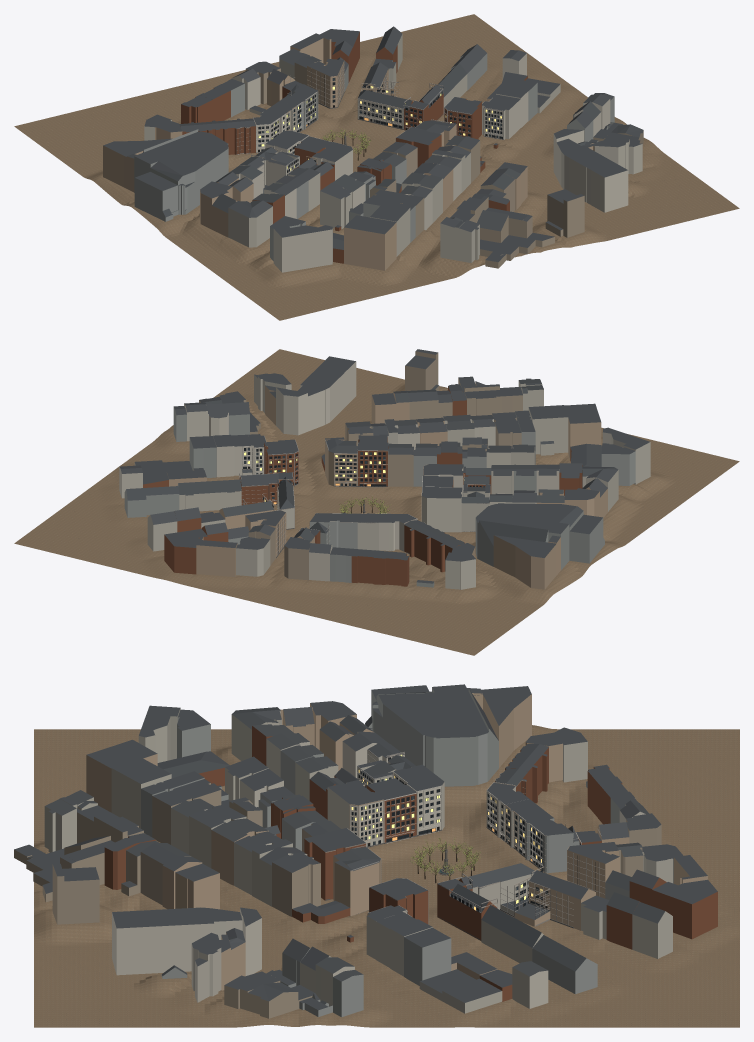
The model's file is night-intersection-c0.glb.
3 views of the same model, one above another, from view 1: azimuth 30°, elevation 25°; view 2: azimuth 150°, elevation 25°; view 3: azimuth 270°, elevation 25° (orthographic). The views are drawn at different scales.
Visible parts, largest first — view 1: astra_continuous_paving, lod2_DEHHALKAJ0000zPI_wall, lod2_DEHHALKAJ0000zPI_roof, lod2_DEHHALKA13y000X0_wall, lod2_DEHHALKAJ0000zR5_wall, lod2_DEHHALKAJ0000zRv_roof, lod2_DEHHALKAJ0000znz_wall, lod2_DEHHALKAJ0000zRv_wall, lod2_DEHHALKAJ0000zyo_wall, lod2_DEHHALKAJ0000zLP_wall, lod2_DEHHALKAJ0000zWs_wall, lod2_DEHHALKA13y000X0_roof (+21 smaller); view 2: astra_continuous_paving, lod2_DEHHALKAJ0000zPI_roof, lod2_DEHHALKA13y000X0_wall, lod2_DEHHALKAJ0000zQ7_wall, lod2_DEHHALKAJ0000zPI_wall, lod2_DEHHALKAJ0000zP6_wall, lod2_DEHHALKAJ0000zsU_wall, lod2_DEHHALKA13y000X0_roof, lod2_DEHHALKA3pt00000_wall, lod2_DEHHALKAJ0000zRv_wall, lod2_DEHHALKAJ0000zKs_wall, lod2_DEHHALKAJ0000zMH_wall (+42 smaller); view 3: astra_continuous_paving, lod2_DEHHALKAJ0000zPI_wall, lod2_DEHHALKA13y000X0_wall, lod2_DEHHALKAJ0000zPI_roof, lod2_DEHHALKAJ0000zRv_roof, lod2_DEHHALKA13y000X0_roof, lod2_DEHHALKAJ0000zRv_wall, hamburg_facade_authored_frame, lod2_DEHHALKAJ0000zyo_wall, lod2_DEHHALKAJ000103Q_wall, lod2_DEHHALKA3pt00003_wall, lod2_DEHHALKAJ000101Q_wall (+92 smaller).
Part boxes in pixels (left/top/right/bottom): astra_continuous_paving: left=14, top=14, right=739, bottom=320; lod2_DEHHALKAJ0000zPI_wall: left=134, top=129, right=228, bottom=221; lod2_DEHHALKAJ0000zPI_roof: left=134, top=131, right=228, bottom=217; lod2_DEHHALKA13y000X0_wall: left=553, top=130, right=628, bottom=212; lod2_DEHHALKAJ0000zR5_wall: left=273, top=228, right=332, bottom=272; lod2_DEHHALKAJ0000zRv_roof: left=450, top=196, right=554, bottom=262; lod2_DEHHALKAJ0000znz_wall: left=344, top=222, right=396, bottom=270; lod2_DEHHALKAJ0000zRv_wall: left=456, top=197, right=554, bottom=268; lod2_DEHHALKAJ0000zyo_wall: left=545, top=195, right=584, bottom=237; lod2_DEHHALKAJ0000zLP_wall: left=228, top=206, right=272, bottom=247; lod2_DEHHALKAJ0000zWs_wall: left=440, top=222, right=479, bottom=262; lod2_DEHHALKA13y000X0_roof: left=554, top=129, right=627, bottom=177; astra_continuous_paving: left=14, top=349, right=739, bottom=655; lod2_DEHHALKAJ0000zPI_roof: left=476, top=503, right=602, bottom=545; lod2_DEHHALKA13y000X0_wall: left=276, top=361, right=356, bottom=435; lod2_DEHHALKAJ0000zQ7_wall: left=493, top=535, right=560, bottom=589; lod2_DEHHALKAJ0000zPI_wall: left=475, top=511, right=604, bottom=570; lod2_DEHHALKAJ0000zP6_wall: left=422, top=490, right=462, bottom=532; lod2_DEHHALKAJ0000zsU_wall: left=528, top=408, right=568, bottom=455; lod2_DEHHALKA13y000X0_roof: left=276, top=356, right=355, bottom=396; lod2_DEHHALKA3pt00000_wall: left=196, top=537, right=237, bottom=576; lod2_DEHHALKAJ0000zRv_wall: left=455, top=378, right=522, bottom=415; lod2_DEHHALKAJ0000zKs_wall: left=124, top=489, right=179, bottom=517; lod2_DEHHALKAJ0000zMH_wall: left=177, top=483, right=241, bottom=511; astra_continuous_paving: left=34, top=725, right=739, bottom=1027; lod2_DEHHALKAJ0000zPI_wall: left=365, top=687, right=498, bottom=786; lod2_DEHHALKA13y000X0_wall: left=112, top=908, right=261, bottom=975; lod2_DEHHALKAJ0000zPI_roof: left=365, top=684, right=498, bottom=740; lod2_DEHHALKAJ0000zRv_roof: left=14, top=805, right=143, bottom=893; lod2_DEHHALKA13y000X0_roof: left=112, top=907, right=261, bottom=928; lod2_DEHHALKAJ0000zRv_wall: left=14, top=812, right=143, bottom=902; hamburg_facade_authored_frame: left=352, top=754, right=580, bottom=911; lod2_DEHHALKAJ0000zyo_wall: left=52, top=864, right=99, bottom=924; lod2_DEHHALKAJ000103Q_wall: left=272, top=858, right=320, bottom=916; lod2_DEHHALKA3pt00003_wall: left=652, top=890, right=717, bottom=939; lod2_DEHHALKAJ000101Q_wall: left=333, top=856, right=380, bottom=916.
Size of the model in its own units: 360 by 33.33 by 370.
Materials: 37 (1 with a texture image).
